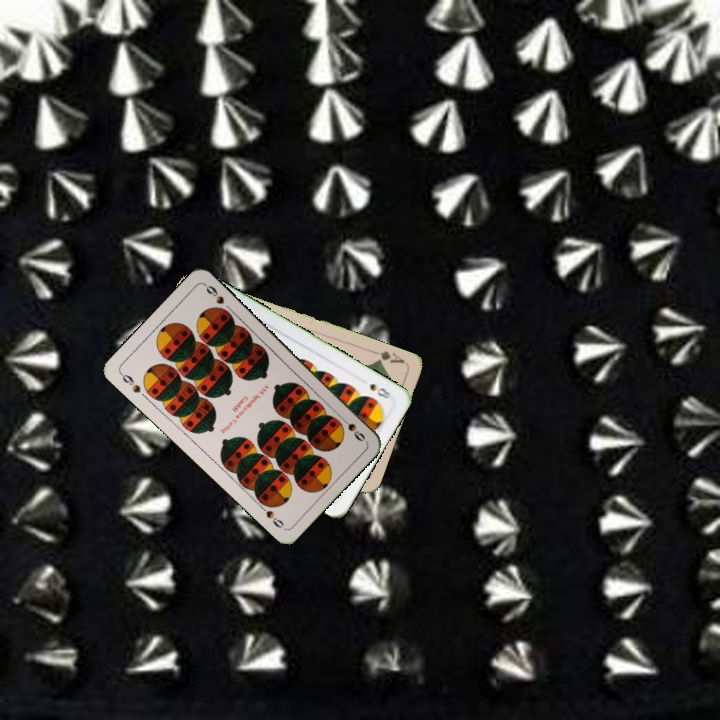GA: (368, 346, 407, 366)
S8: (365, 379, 394, 401)
S9: (335, 412, 368, 444), (116, 369, 143, 395)
